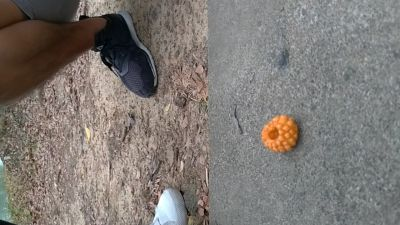eggs: (261, 115, 298, 153)
